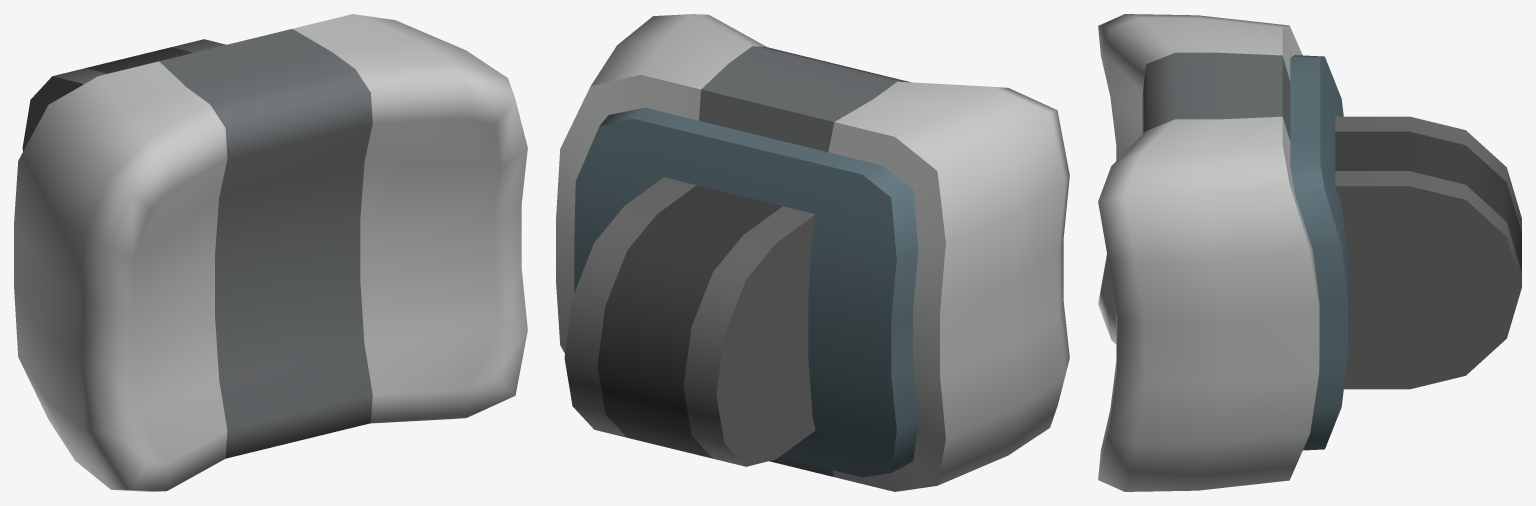
Rendered from Armchair_013_Part_03.fbx.
3 renders of one model, left to right at view 1: azimuth 30°, elevation 25°; view 2: azimuth 150°, elevation 25°; view 3: azimuth 270°, elevation 25°, orthographic. The views are drawn at different scales.
Parts seen in each view (by area): view 1: Armchair_013_Part_03; view 2: Armchair_013_Part_03; view 3: Armchair_013_Part_03.
Part boxes in pixels (x1,y1,x2,y2): Armchair_013_Part_03: (14,14,527,491); Armchair_013_Part_03: (556,14,1069,491); Armchair_013_Part_03: (1098,14,1521,491).
Size of the model in its own units: 37.43 by 33.32 by 28.96.
